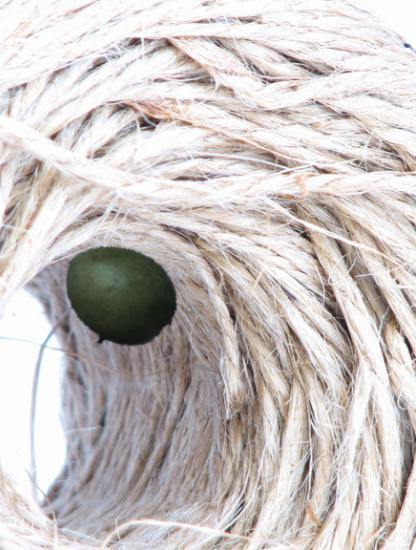Mango: (57, 236, 180, 359)
